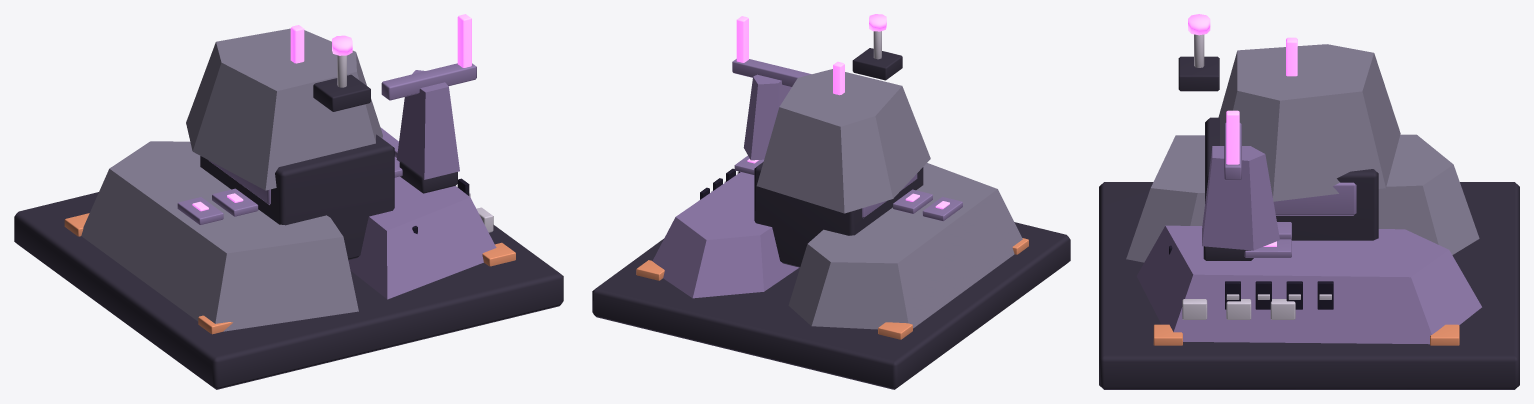
Rendered from vesper-command-yard.glb.
The picture shows the model from 3 angles, left to right: view 1: azimuth 30°, elevation 25°; view 2: azimuth 150°, elevation 25°; view 3: azimuth 270°, elevation 25°; orthographic projection. The views are drawn at different scales.
Parts seen in each view (by area): view 1: Vesper left salvage shell, Vesper command skid, Vesper right salvage shell, Vesper salvage signal arm, Skid corner marker, Signal blade, Salvage brace; view 2: Vesper left salvage shell, Vesper command skid, Vesper right salvage shell, Vesper salvage signal arm, Skid corner marker, Signal blade; view 3: Vesper command skid, Vesper left salvage shell, Vesper right salvage shell, Vesper salvage signal arm, Salvage brace, Command access recess, Skid corner marker, Signal blade.
Boxes of the visible parts, x1,y1,x2,y2 form: Vesper left salvage shell: (81,28,382,331); Vesper command skid: (14,74,563,389); Vesper right salvage shell: (177,127,496,299); Vesper salvage signal arm: (381,14,476,193); Skid corner marker: (64,213,515,334); Signal blade: (192,25,352,211); Salvage brace: (337,55,493,232); Vesper left salvage shell: (756,69,1022,329); Vesper command skid: (592,48,1070,389); Vesper right salvage shell: (652,155,962,298); Vesper salvage signal arm: (732,16,811,160); Skid corner marker: (636,238,1028,339); Signal blade: (747,14,949,209); Vesper command skid: (1099,56,1519,389); Vesper left salvage shell: (1126,44,1479,262); Vesper right salvage shell: (1136,182,1481,344); Vesper salvage signal arm: (1202,110,1279,260); Salvage brace: (1182,34,1331,319); Command access recess: (1169,245,1333,309); Skid corner marker: (1153,324,1459,345); Signal blade: (1188,14,1297,246).
Bounding box in the file's own units: 2.86 × 2.13 × 2.86.
